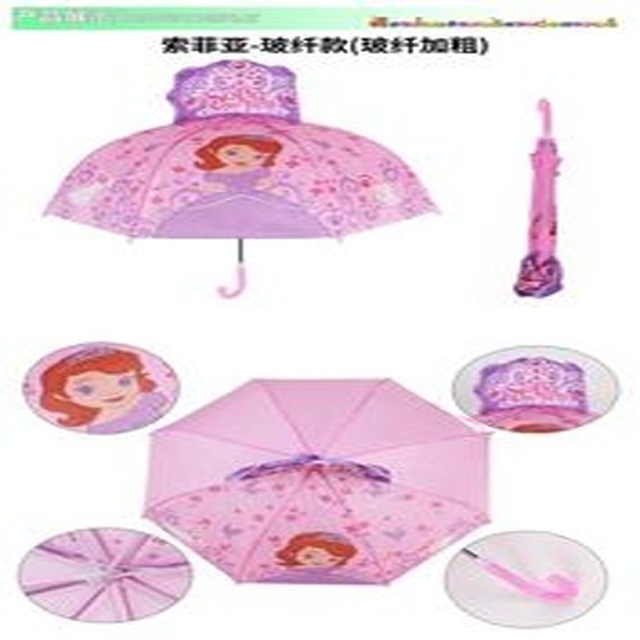umbrella: (37, 108, 439, 300), (142, 374, 495, 590), (514, 96, 567, 301)
